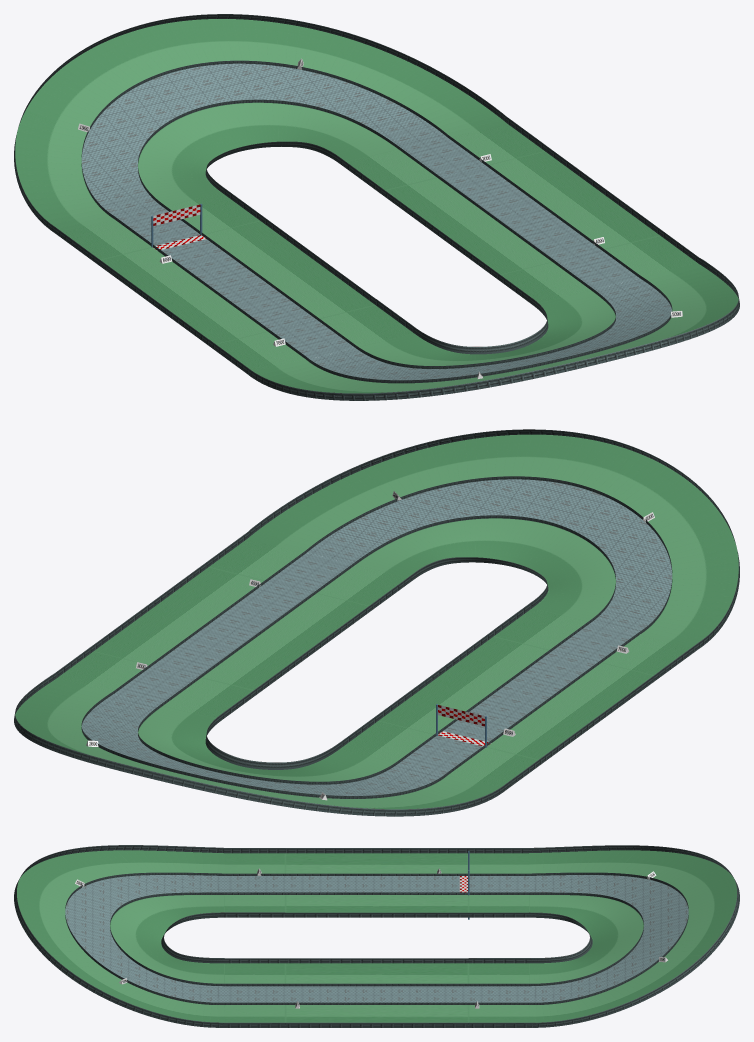
The model's file is TEST_MAP.OBJ.
The picture shows the model from 3 angles, top to bottom: view 1: azimuth 30°, elevation 25°; view 2: azimuth 150°, elevation 25°; view 3: azimuth 270°, elevation 25°; orthographic projection. The views are drawn at different scales.
Parts seen in each view (by area): view 1: pPlane11__ROAD_SJ, loftedSurface32__ROAD_asphaft, pPlane19__rc_comb_both01, pPlane23__StartLine; view 2: pPlane11__ROAD_SJ, loftedSurface32__ROAD_asphaft, pPlane19__rc_comb_both01, pPlane23__StartLine; view 3: pPlane11__ROAD_SJ, loftedSurface32__ROAD_asphaft, pPlane19__rc_comb_both01.
Boxes of the visible parts, bbox=[...] form: pPlane11__ROAD_SJ: bbox=[15, 19, 738, 393]; loftedSurface32__ROAD_asphaft: bbox=[81, 63, 672, 380]; pPlane19__rc_comb_both01: bbox=[14, 14, 739, 400]; pPlane23__StartLine: bbox=[153, 204, 206, 250]; pPlane11__ROAD_SJ: bbox=[15, 434, 738, 809]; loftedSurface32__ROAD_asphaft: bbox=[81, 479, 672, 795]; pPlane19__rc_comb_both01: bbox=[14, 429, 739, 816]; pPlane23__StartLine: bbox=[438, 705, 491, 746]; pPlane11__ROAD_SJ: bbox=[17, 850, 736, 1022]; loftedSurface32__ROAD_asphaft: bbox=[65, 875, 688, 1002]; pPlane19__rc_comb_both01: bbox=[14, 845, 739, 1027].
Size of what is drawn, in the model's own units: 230 by 44.24 by 403.
